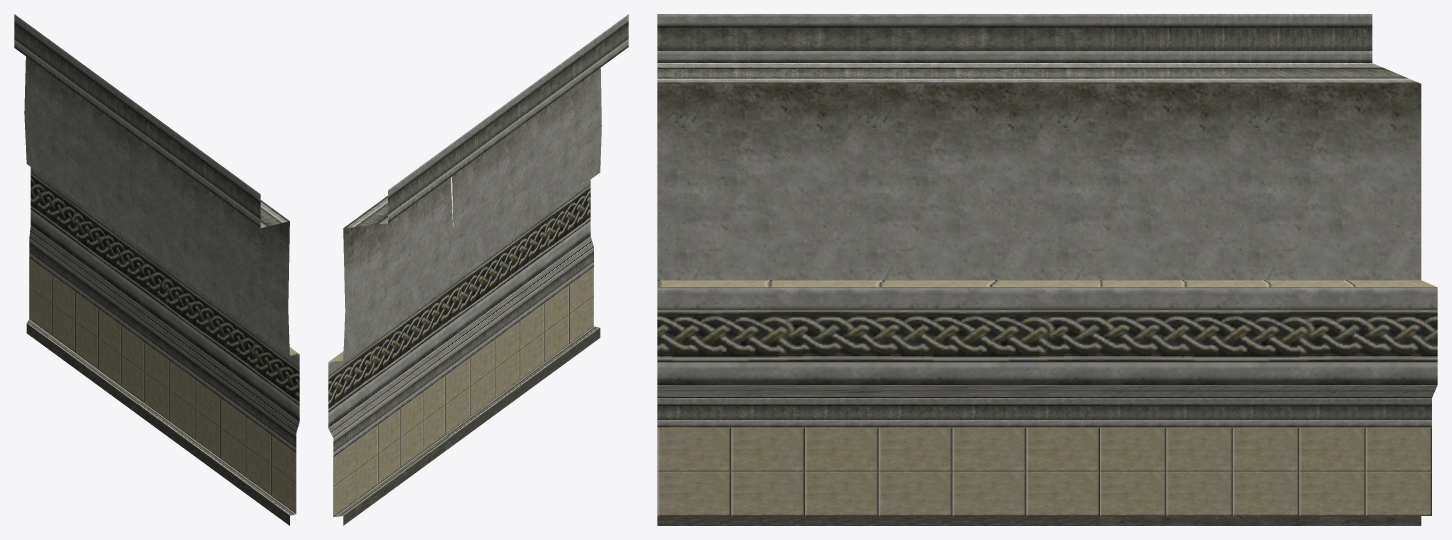
The model's file is DWARF_PALACE_ARKENSTONE_ROOM_BACKWALLB.fbx.
3 views of the same model, side by side, from view 1: azimuth 30°, elevation 25°; view 2: azimuth 150°, elevation 25°; view 3: azimuth 270°, elevation 25° (orthographic). The views are drawn at different scales.
Visible parts, largest first — view 1: DWARF_PALACE_ARKENSTONE_ROOM_BACKWALLB; view 2: DWARF_PALACE_ARKENSTONE_ROOM_BACKWALLB; view 3: DWARF_PALACE_ARKENSTONE_ROOM_BACKWALLB.
Part boxes in pixels (bbox=[...]): DWARF_PALACE_ARKENSTONE_ROOM_BACKWALLB: bbox=[14, 14, 299, 525]; DWARF_PALACE_ARKENSTONE_ROOM_BACKWALLB: bbox=[328, 14, 628, 525]; DWARF_PALACE_ARKENSTONE_ROOM_BACKWALLB: bbox=[657, 14, 1437, 525].
Bounding box in the file's own units: 12004 × 100000 × 143867.
6 materials, 6 textured.
